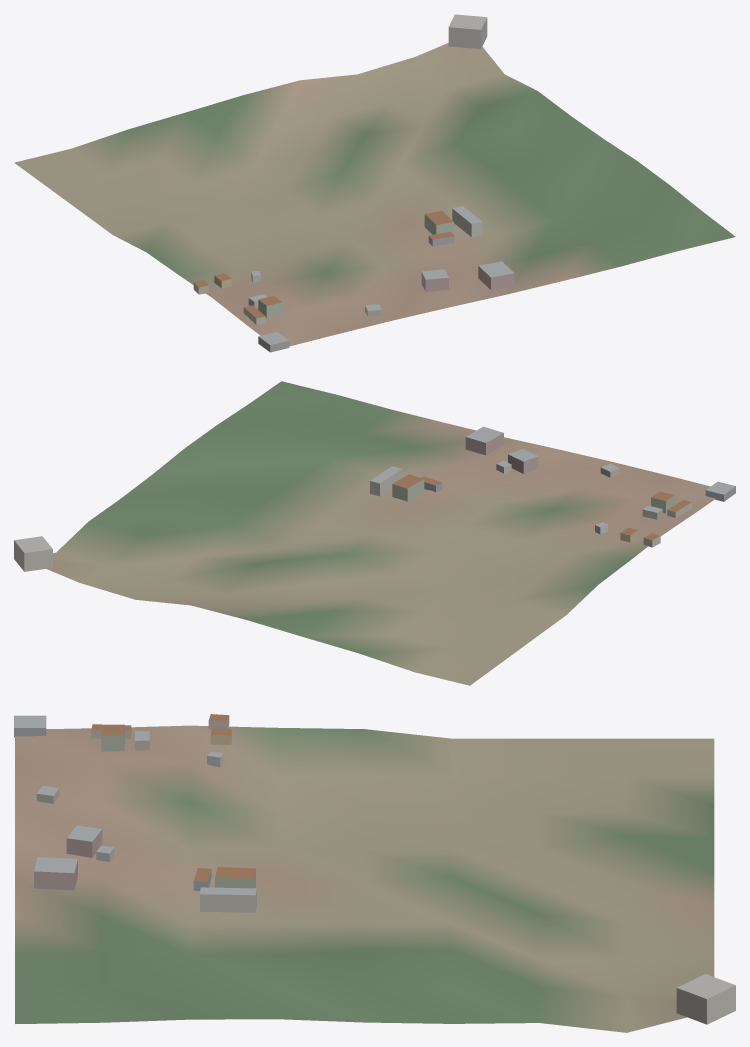
3 renders of one model, top to bottom at view 1: azimuth 30°, elevation 25°; view 2: azimuth 150°, elevation 25°; view 3: azimuth 270°, elevation 25°, orthographic. The views are drawn at different scales.
Visible parts, largest first — view 1: Lo; view 2: Lo; view 3: Lo.
Part boxes in pixels (<box>): Lo: <box>14,14,735,352</box>; Lo: <box>14,381,735,685</box>; Lo: <box>14,714,735,1032</box>.
Size of the model in its own units: 268 by 17.43 by 264.
